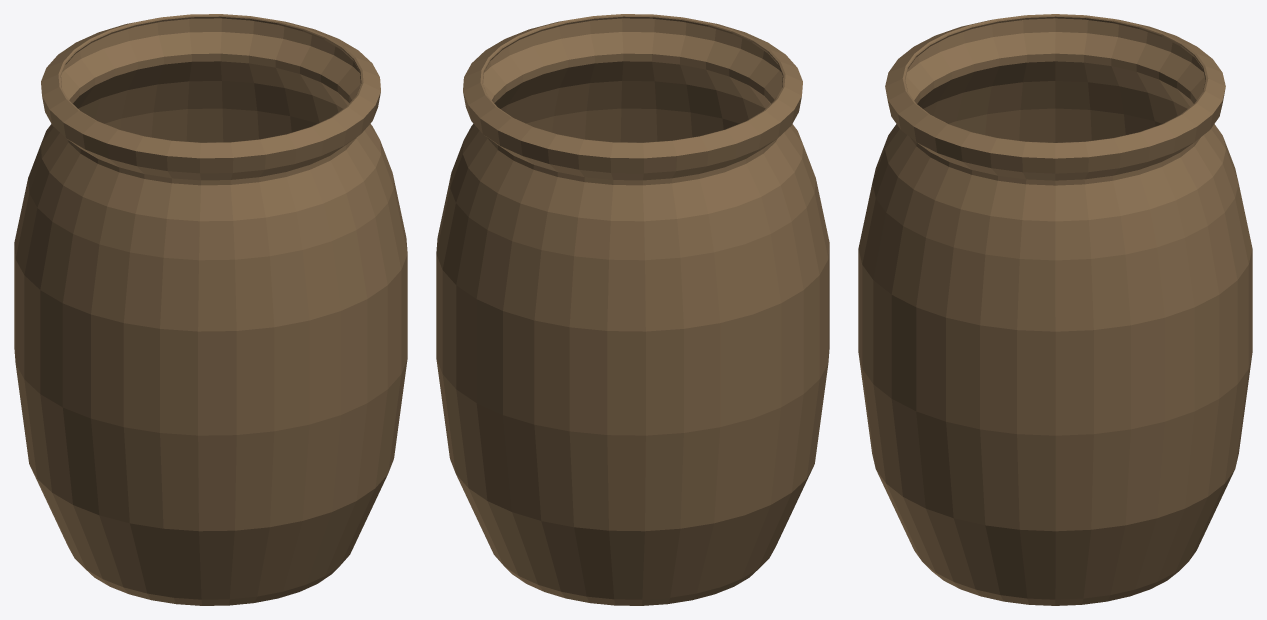
The model's file is Basket01.fbx.
3 renders of one model, left to right at view 1: azimuth 30°, elevation 25°; view 2: azimuth 150°, elevation 25°; view 3: azimuth 270°, elevation 25°, orthographic.
Visible parts, largest first — view 1: Basket01; view 2: Basket01; view 3: Basket01.
Boxes of the visible parts, box(x1,y1,x2,y2) form: Basket01: box(14, 14, 407, 605); Basket01: box(436, 14, 829, 605); Basket01: box(858, 14, 1252, 605).
Bounding box in the file's own units: 0.5879 × 0.7747 × 0.5879.
